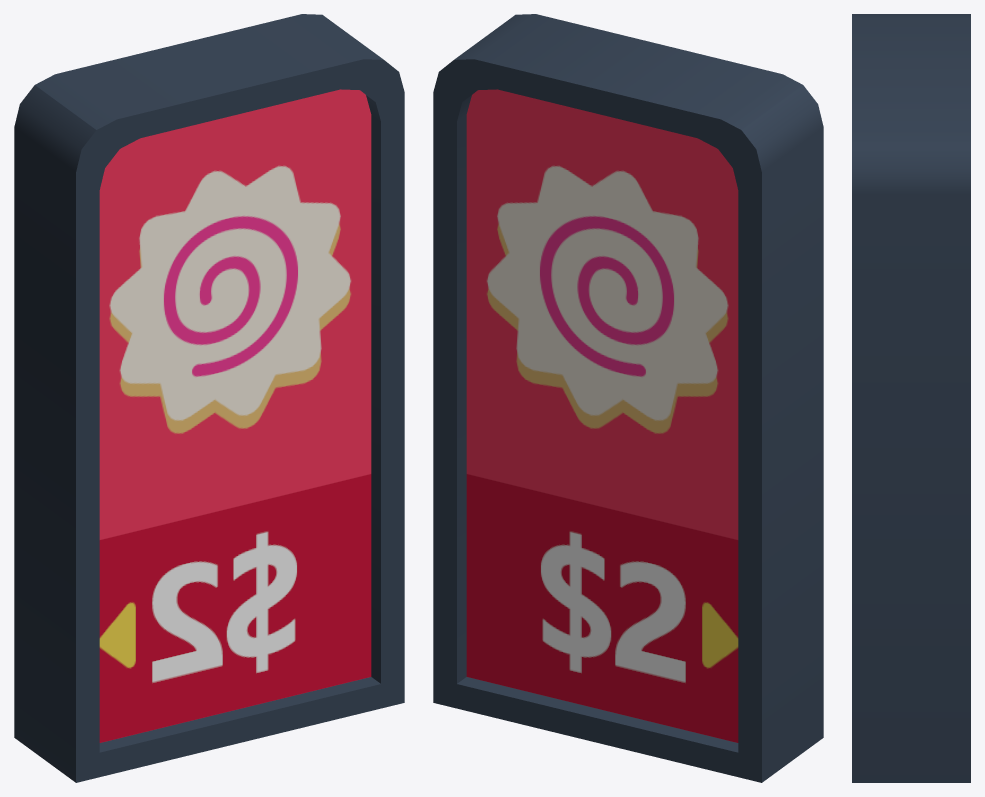
File: adboard_Ramen2_geo.fbx
3 views of the same model, side by side, from view 1: azimuth 30°, elevation 25°; view 2: azimuth 150°, elevation 25°; view 3: azimuth 270°, elevation 25° (orthographic). The views are drawn at different scales.
Visible parts, largest first — view 1: adboard_Ramen2_geo; view 2: adboard_Ramen2_geo; view 3: adboard_Ramen2_geo.
Part boxes in pixels (x1=…): adboard_Ramen2_geo: x1=14, y1=14, x2=404, y2=782; adboard_Ramen2_geo: x1=433, y1=14, x2=823, y2=782; adboard_Ramen2_geo: x1=852, y1=14, x2=970, y2=782.
Bounding box in the file's own units: 0.7668 × 0.2497 × 1.46.
